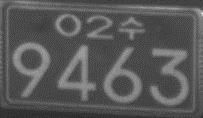0: (54, 12, 82, 37)
2: (86, 14, 113, 40)
3: (149, 47, 189, 106)
4: (56, 44, 97, 102)
6: (103, 46, 142, 104)
9: (11, 41, 52, 99)
수: (118, 15, 145, 41)
